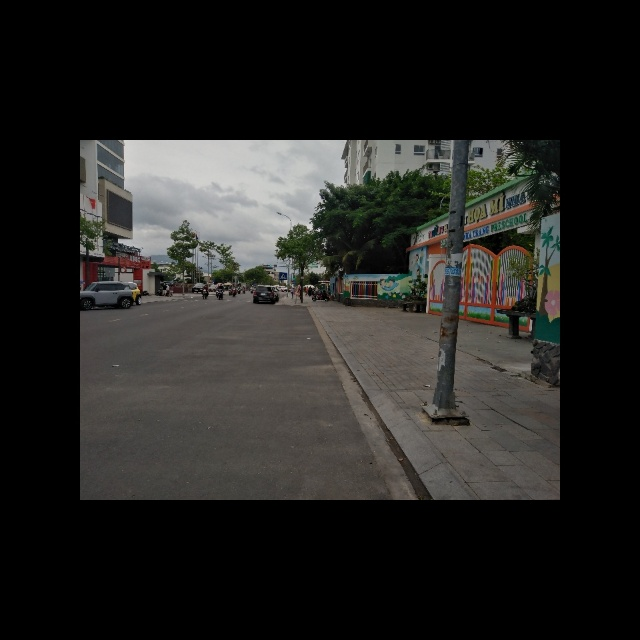Đường dành cho người đi bộ: (279, 272, 287, 280)
